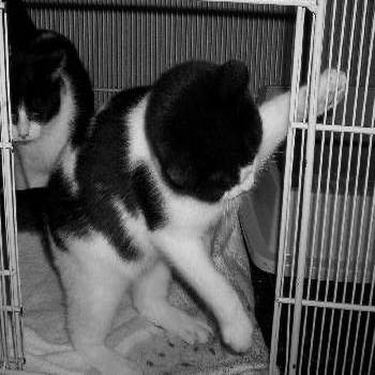cat: (9, 53, 344, 372), (1, 1, 88, 192)
